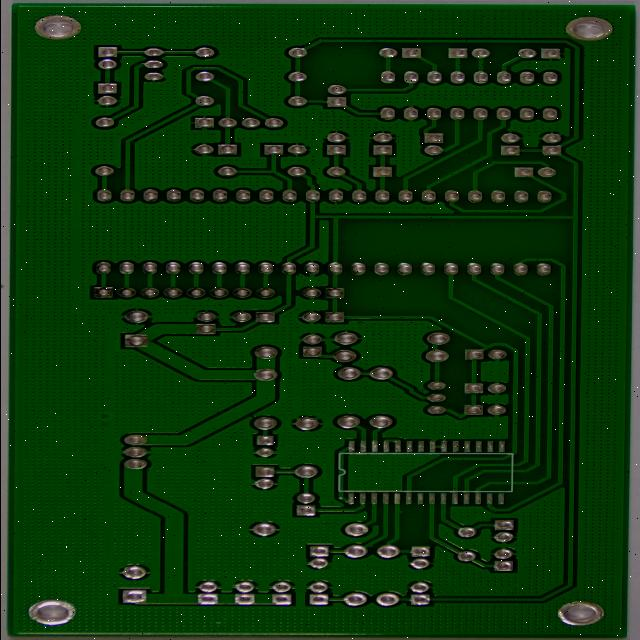spur: (530, 500, 551, 510), (430, 505, 448, 513)
